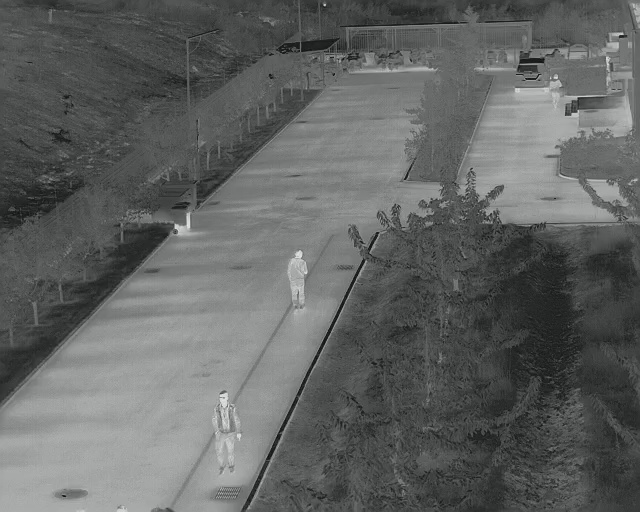person: (214, 389, 241, 475), (287, 248, 312, 312), (549, 74, 563, 110)
vehicle: (514, 56, 550, 95)
